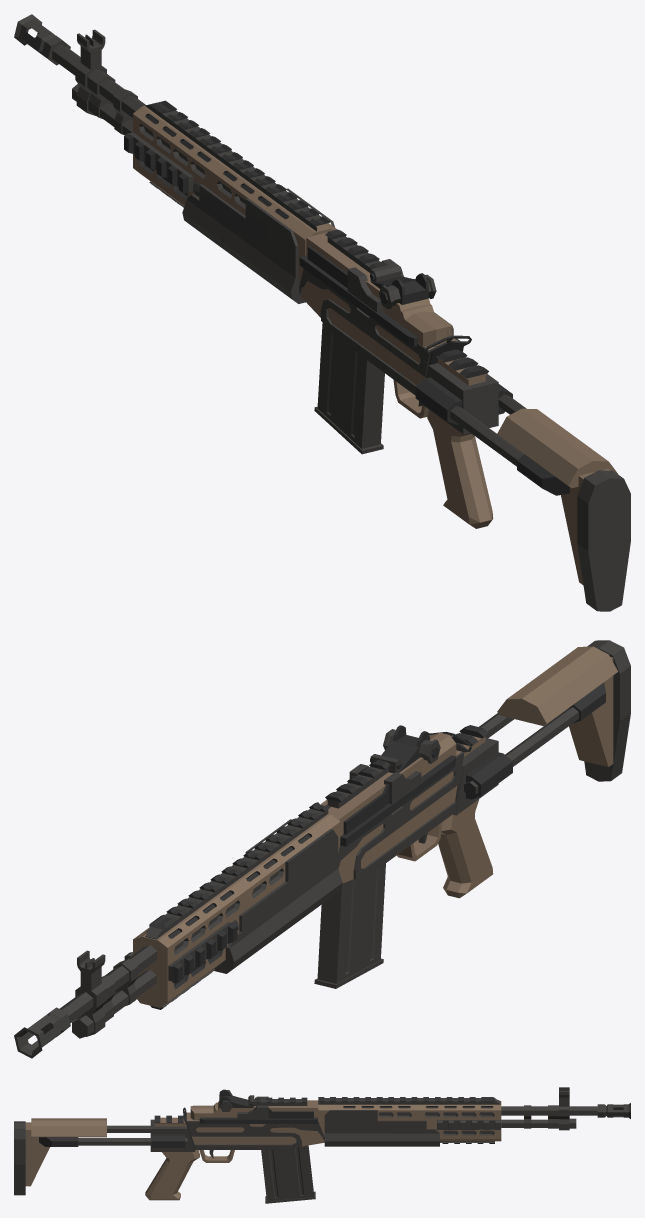
Rendered from Mod_MK14EBR.glb.
3 views of the same model, one above another, from view 1: azimuth 30°, elevation 25°; view 2: azimuth 150°, elevation 25°; view 3: azimuth 270°, elevation 25° (orthographic). The views are drawn at different scales.
Visible parts, largest first — view 1: Mod_MK14EBR; view 2: Mod_MK14EBR; view 3: Mod_MK14EBR.
Part boxes in pixels (box(x1,y1,x2,y2)): Mod_MK14EBR: box(14, 14, 630, 611); Mod_MK14EBR: box(14, 640, 630, 1058); Mod_MK14EBR: box(14, 1087, 630, 1203).
Bounding box in the file's own units: 0.0618 × 0.1891 × 0.9485.
1 material, 1 textured.
